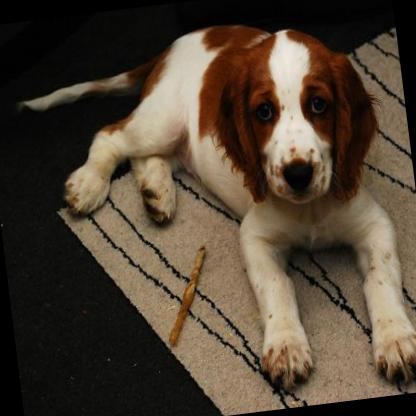Welsh_springer_spaniel: (17, 6, 416, 416)
